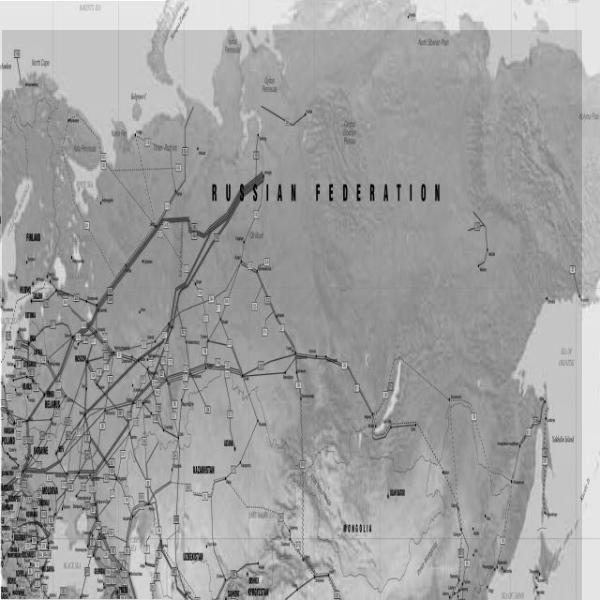no leak: (2, 30, 582, 600)
